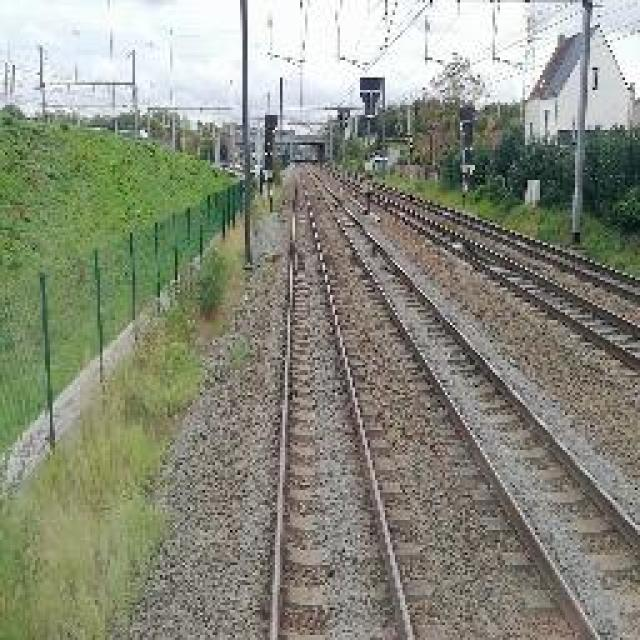rail: (249, 163, 438, 638)
